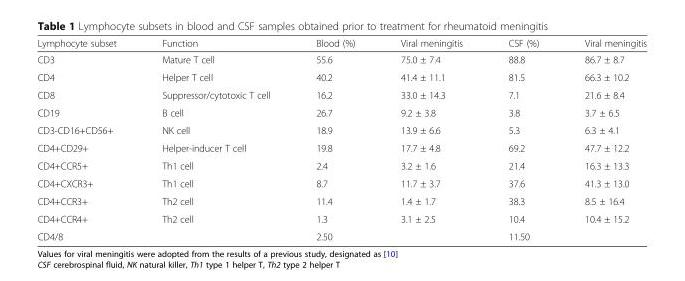table: (36, 36, 645, 241)
table column: (138, 36, 292, 241), (377, 36, 484, 241), (36, 36, 138, 241), (292, 36, 377, 241), (561, 36, 645, 241), (484, 36, 561, 241)
table column header: (36, 36, 645, 50)
table row: (36, 50, 645, 68), (36, 85, 645, 103), (36, 103, 645, 121), (36, 138, 645, 156), (36, 156, 645, 174), (36, 191, 645, 209), (36, 209, 645, 227), (36, 68, 645, 85), (36, 121, 645, 138), (36, 174, 645, 191), (36, 36, 645, 50), (36, 227, 645, 241)
